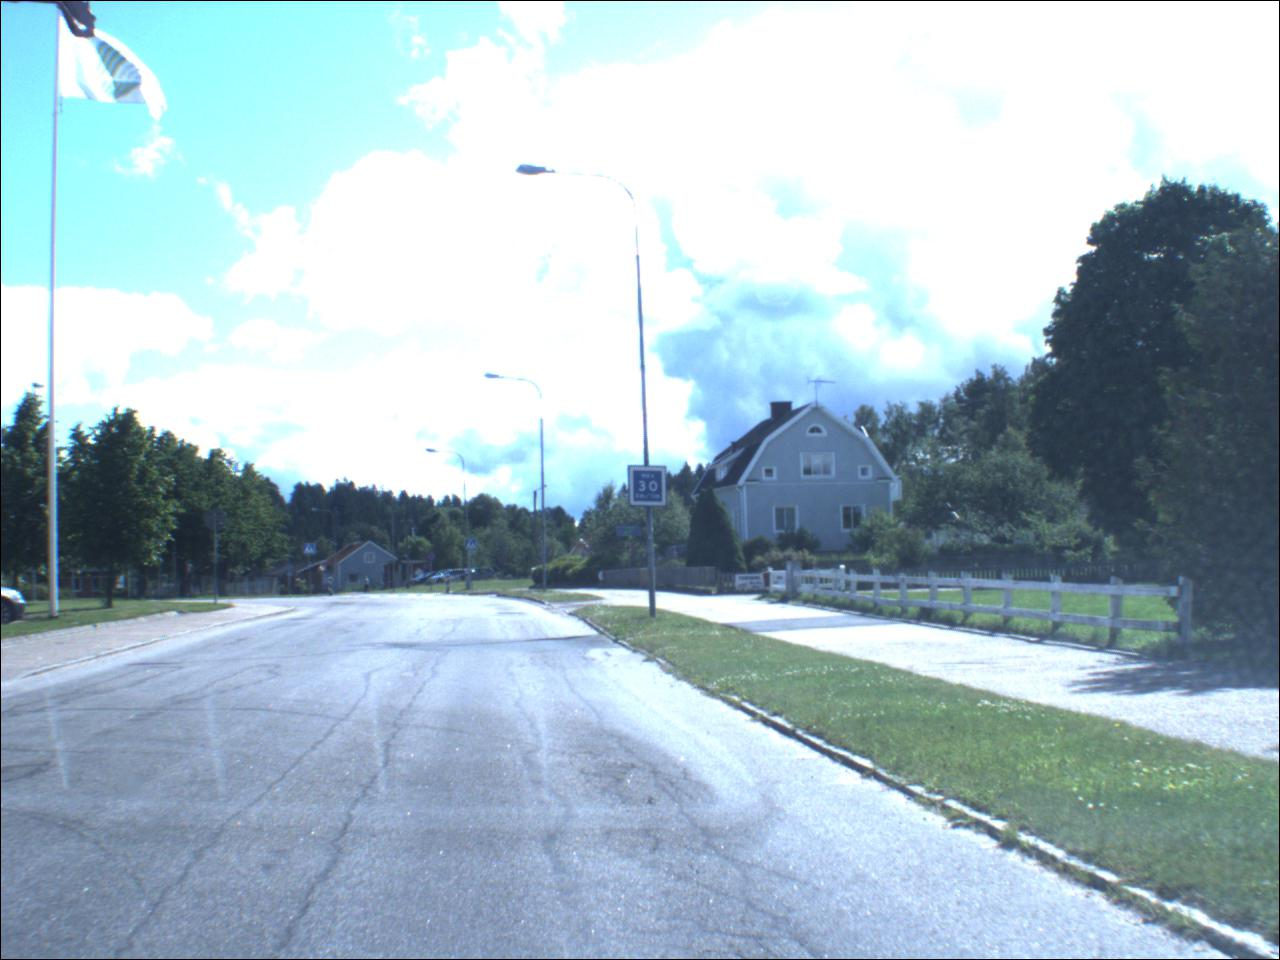NO_STOPPING_NO_STANDING: (428, 554, 439, 564)
PEDESTRIAN_CROSSING: (305, 545, 319, 557), (468, 541, 480, 553)
